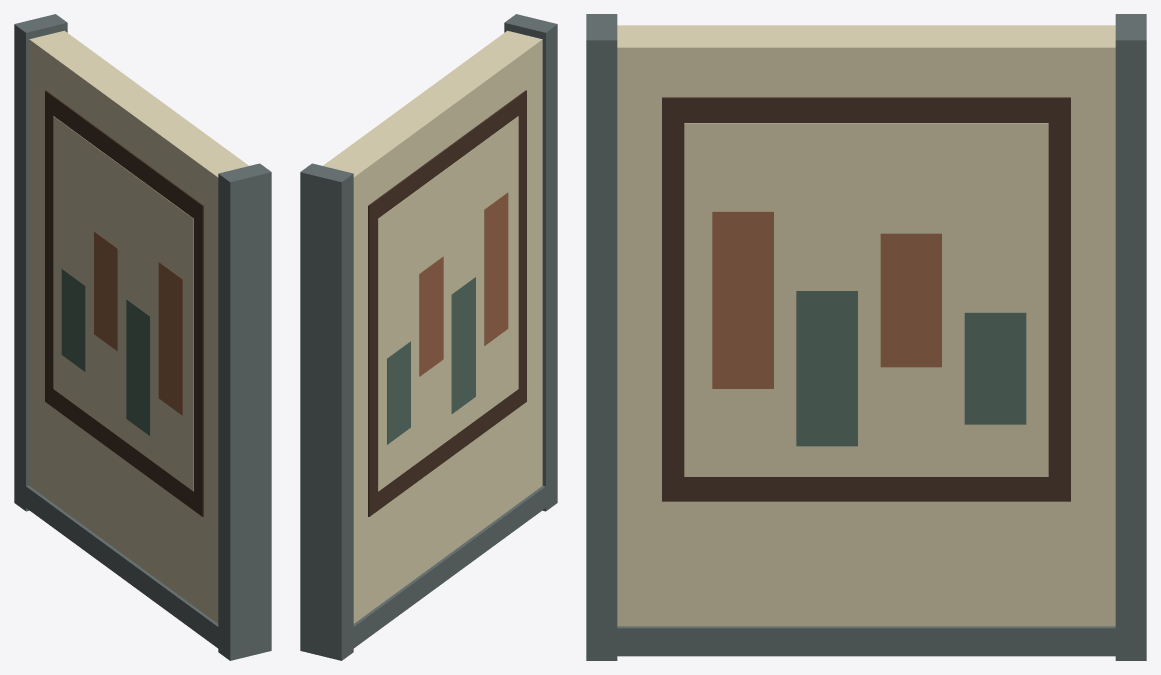
The model's file is LP_Temporary_PartitionWest.fbx.
3 renders of one model, left to right at view 1: azimuth 30°, elevation 25°; view 2: azimuth 150°, elevation 25°; view 3: azimuth 270°, elevation 25°, orthographic. The views are drawn at different scales.
Visible parts, largest first — view 1: WarmIvory, M_Museum_BrushedMetal, Canvas_1, Gallery picture frame_1, Geometric composition_7, Geometric composition_6, Geometric composition_5, Geometric composition_4; view 2: WarmIvory, M_Museum_BrushedMetal, Canvas_1, Gallery picture frame_1, Geometric composition_7, Geometric composition_6, Geometric composition_5, Geometric composition_4; view 3: WarmIvory, Canvas, M_Museum_BrushedMetal, Gallery picture frame, Geometric composition_3, Geometric composition_2, Geometric composition_1, Geometric composition.
Boxes of the visible parts, x1,y1,x2,y2 form: WarmIvory: [29, 30, 248, 623]; M_Museum_BrushedMetal: [14, 14, 271, 660]; Canvas_1: [53, 116, 193, 491]; Gallery picture frame_1: [45, 90, 203, 516]; Geometric composition_7: [158, 262, 182, 415]; Geometric composition_6: [126, 299, 150, 435]; Geometric composition_5: [94, 231, 117, 351]; Geometric composition_4: [61, 268, 85, 371]; WarmIvory: [323, 30, 542, 623]; M_Museum_BrushedMetal: [300, 14, 557, 660]; Canvas_1: [378, 116, 518, 491]; Gallery picture frame_1: [368, 90, 526, 516]; Geometric composition_7: [484, 192, 508, 345]; Geometric composition_6: [451, 277, 475, 413]; Geometric composition_5: [419, 256, 443, 376]; Geometric composition_4: [387, 341, 410, 444]; WarmIvory: [617, 25, 1115, 626]; Canvas: [684, 123, 1048, 476]; M_Museum_BrushedMetal: [586, 14, 1146, 660]; Gallery picture frame: [662, 97, 1070, 501]; Geometric composition_3: [712, 211, 773, 388]; Geometric composition_2: [796, 291, 857, 446]; Geometric composition_1: [880, 233, 941, 367]; Geometric composition: [964, 312, 1026, 424].
Bounding box in the file's own units: 20 × 220 × 180.
